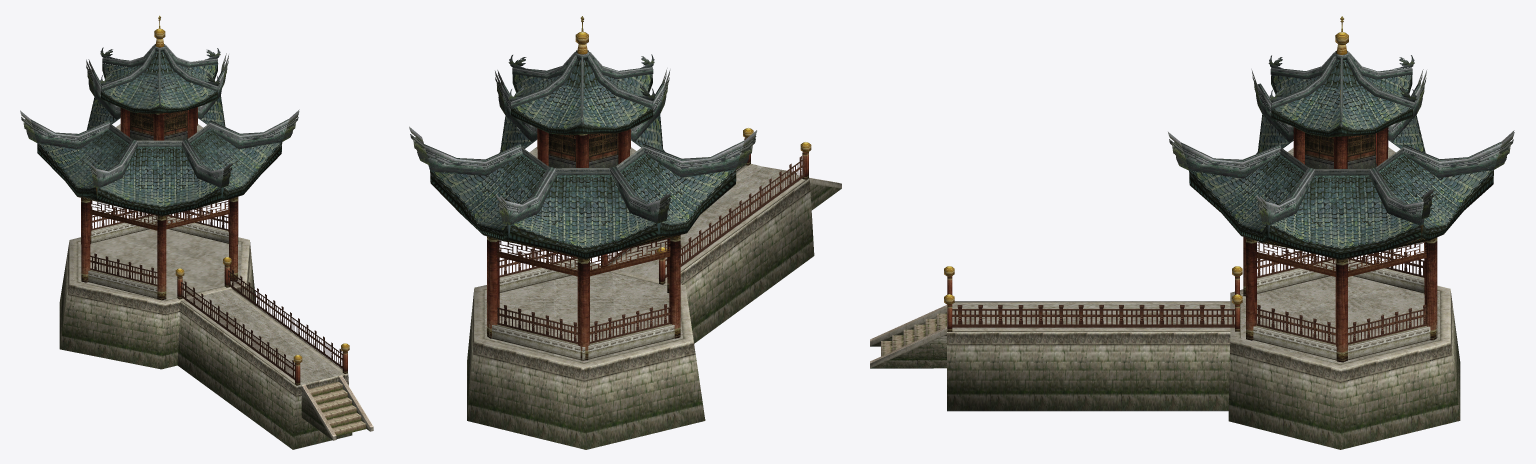
File: cj_lake_gardenvill.glb
3 views of the same model, side by side, from view 1: azimuth 30°, elevation 25°; view 2: azimuth 150°, elevation 25°; view 3: azimuth 270°, elevation 25° (orthographic). The views are drawn at different scales.
Parts seen in each view (by area): view 1: cj_lake_gardenvill_wood, cj_lake_gardenvill_roof, cj_lake_gardenvill_floor, cj_lake_gardenvill_column, cj_lake_gardenvill_alpha, cj_lake_gardenvill_roofde; view 2: cj_lake_gardenvill_wood, cj_lake_gardenvill_roof, cj_lake_gardenvill_floor, cj_lake_gardenvill_alpha, cj_lake_gardenvill_column, cj_lake_gardenvill_roofde; view 3: cj_lake_gardenvill_wood, cj_lake_gardenvill_roof, cj_lake_gardenvill_floor, cj_lake_gardenvill_alpha, cj_lake_gardenvill_column, cj_lake_gardenvill_roofde.
Part boxes in pixels (<box>): cj_lake_gardenvill_wood: <box>30,28,373,449</box>; cj_lake_gardenvill_roof: <box>37,51,282,215</box>; cj_lake_gardenvill_floor: <box>78,124,343,384</box>; cj_lake_gardenvill_column: <box>81,107,373,436</box>; cj_lake_gardenvill_alpha: <box>90,110,342,379</box>; cj_lake_gardenvill_roofde: <box>20,15,299,188</box>; cj_lake_gardenvill_wood: <box>424,31,841,449</box>; cj_lake_gardenvill_roof: <box>430,59,736,259</box>; cj_lake_gardenvill_floor: <box>484,147,802,362</box>; cj_lake_gardenvill_alpha: <box>497,133,804,343</box>; cj_lake_gardenvill_column: <box>487,105,839,360</box>; cj_lake_gardenvill_roofde: <box>409,16,756,224</box>; cj_lake_gardenvill_wood: <box>870,32,1501,449</box>; cj_lake_gardenvill_roof: <box>1189,60,1493,259</box>; cj_lake_gardenvill_floor: <box>947,147,1439,364</box>; cj_lake_gardenvill_alpha: <box>952,135,1426,344</box>; cj_lake_gardenvill_column: <box>870,127,1437,363</box>; cj_lake_gardenvill_roofde: <box>1168,16,1514,224</box>.
Size of the model in its own units: 11.46 by 15.22 by 23.8.
Materials: 6 (6 with a texture image).
